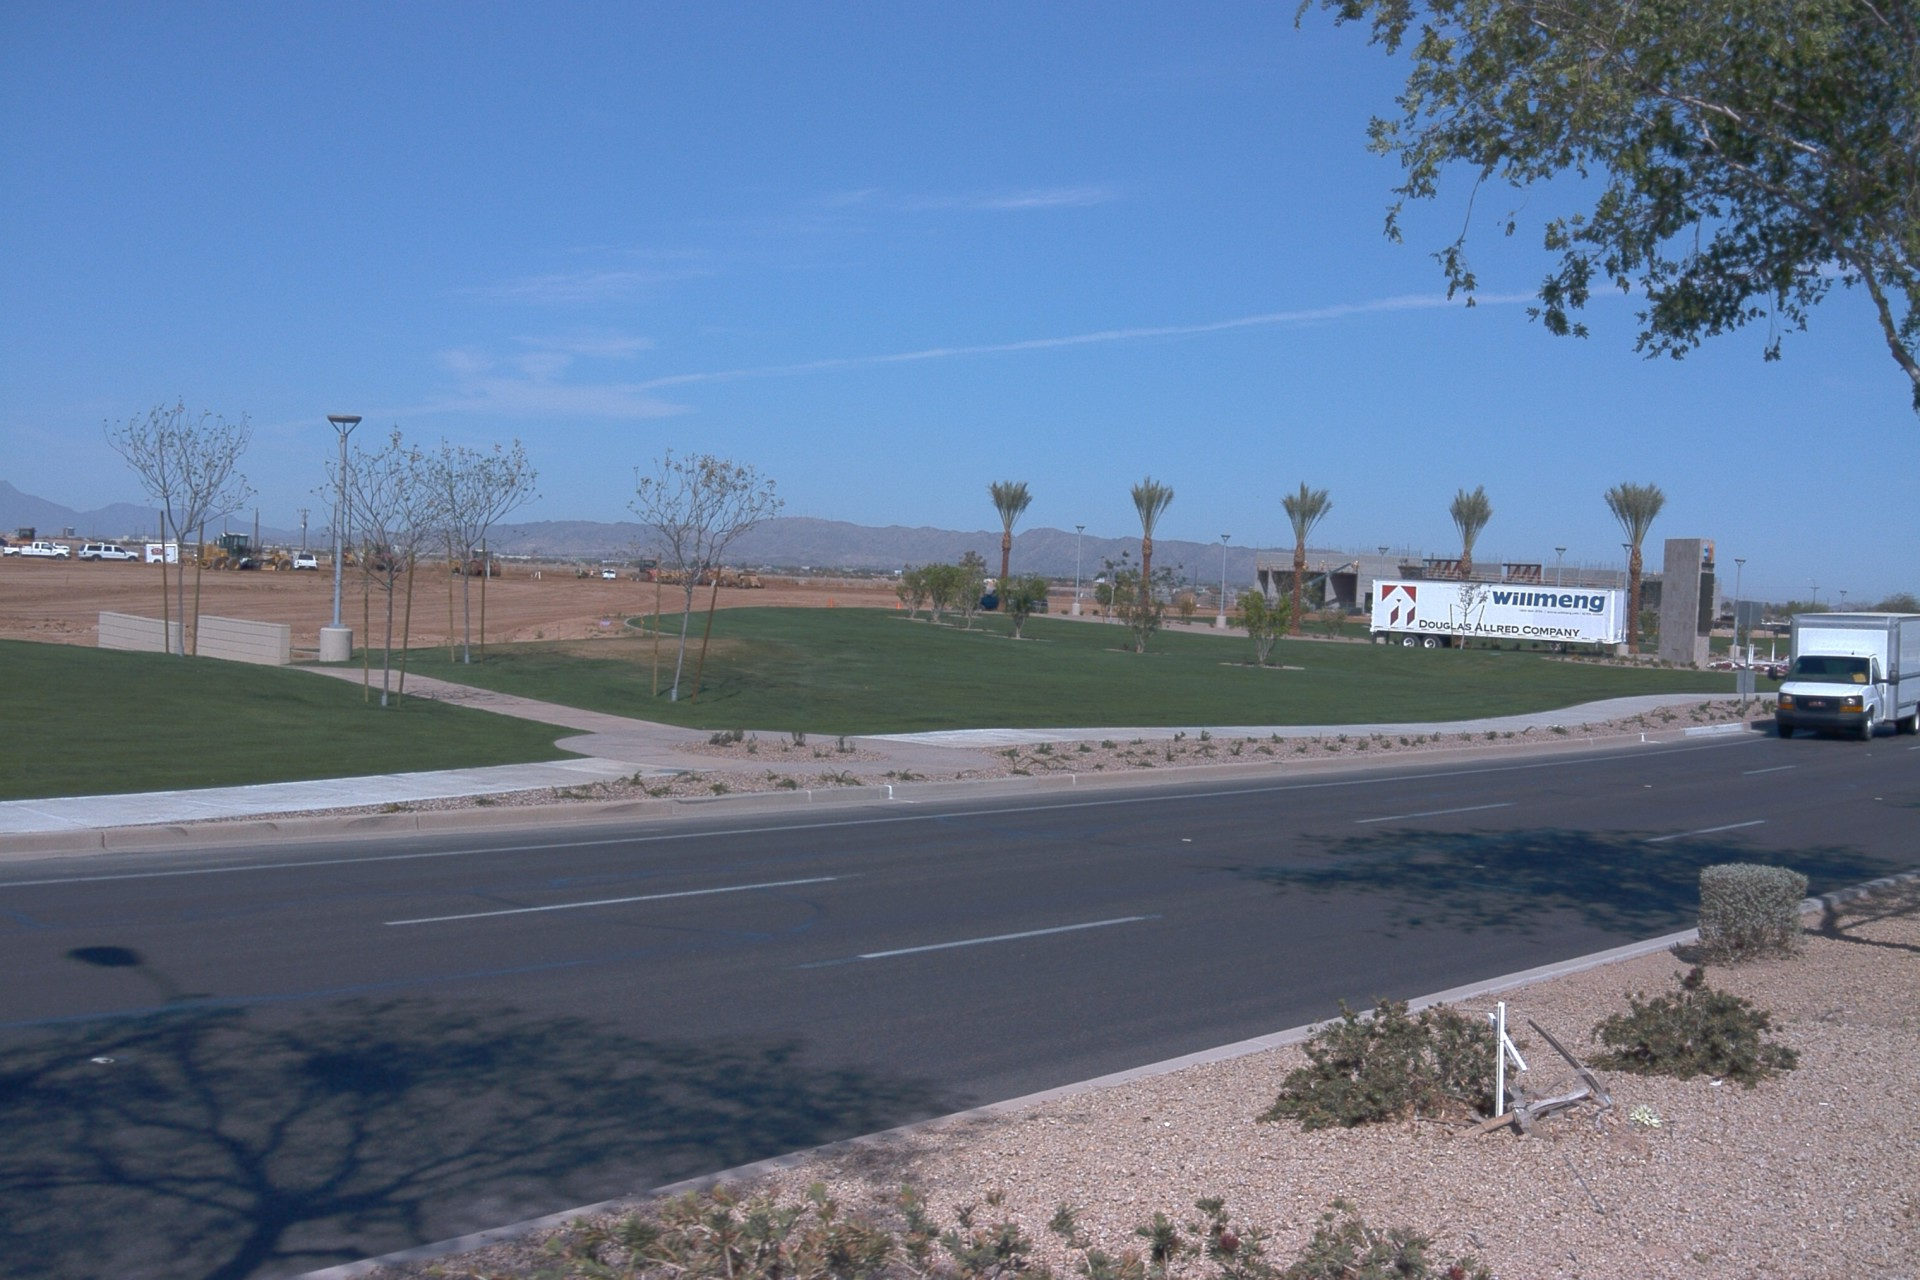TYPE_PEDESTRIAN: (576, 567, 584, 580), (588, 569, 596, 581)
TYPE_VEHICLE: (1366, 577, 1632, 659), (1768, 615, 1920, 744), (177, 533, 295, 576), (1287, 560, 1356, 605), (449, 549, 503, 580), (981, 587, 1053, 610), (7, 538, 75, 560), (367, 539, 403, 573), (78, 544, 139, 561), (149, 544, 183, 565), (330, 546, 357, 567), (980, 575, 1003, 594), (296, 555, 319, 574), (47, 539, 70, 553), (601, 569, 618, 583), (0, 535, 9, 548), (97, 543, 120, 547)
